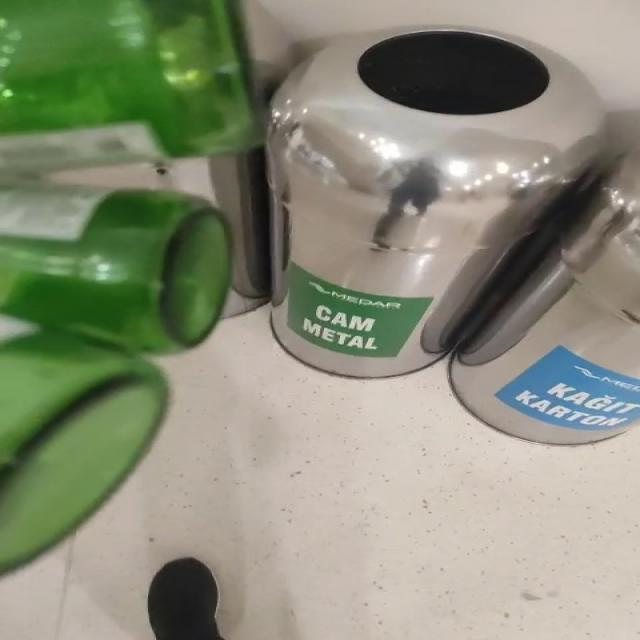Glass: (0, 0, 259, 572)
